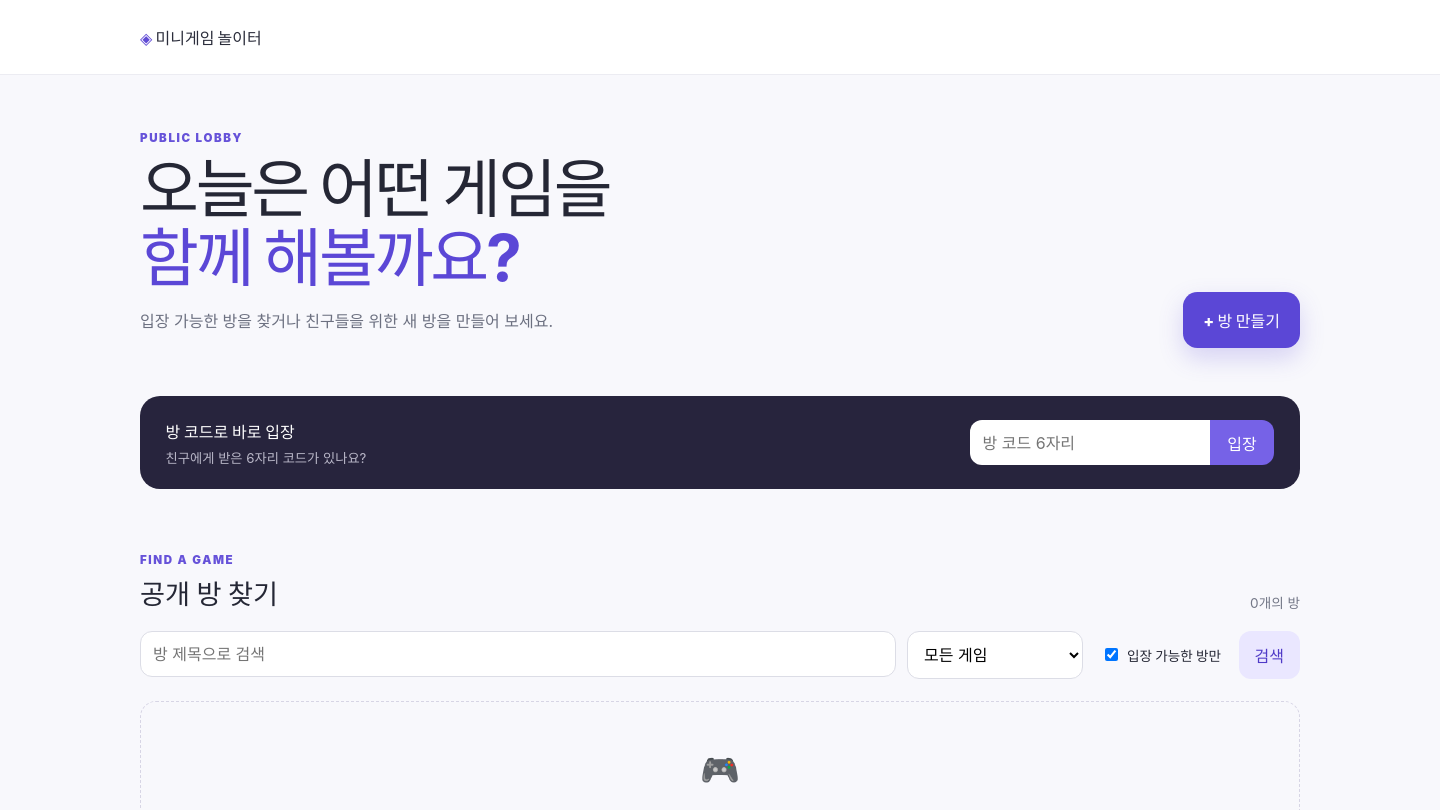
Test case: LobbyView › clears a cancelled plaintext room password before the dialog reopens
Step 1. Click the button "+ 방 만들기" → click(1242, 320), box x1=1183 y1=292 x2=1300 y2=348
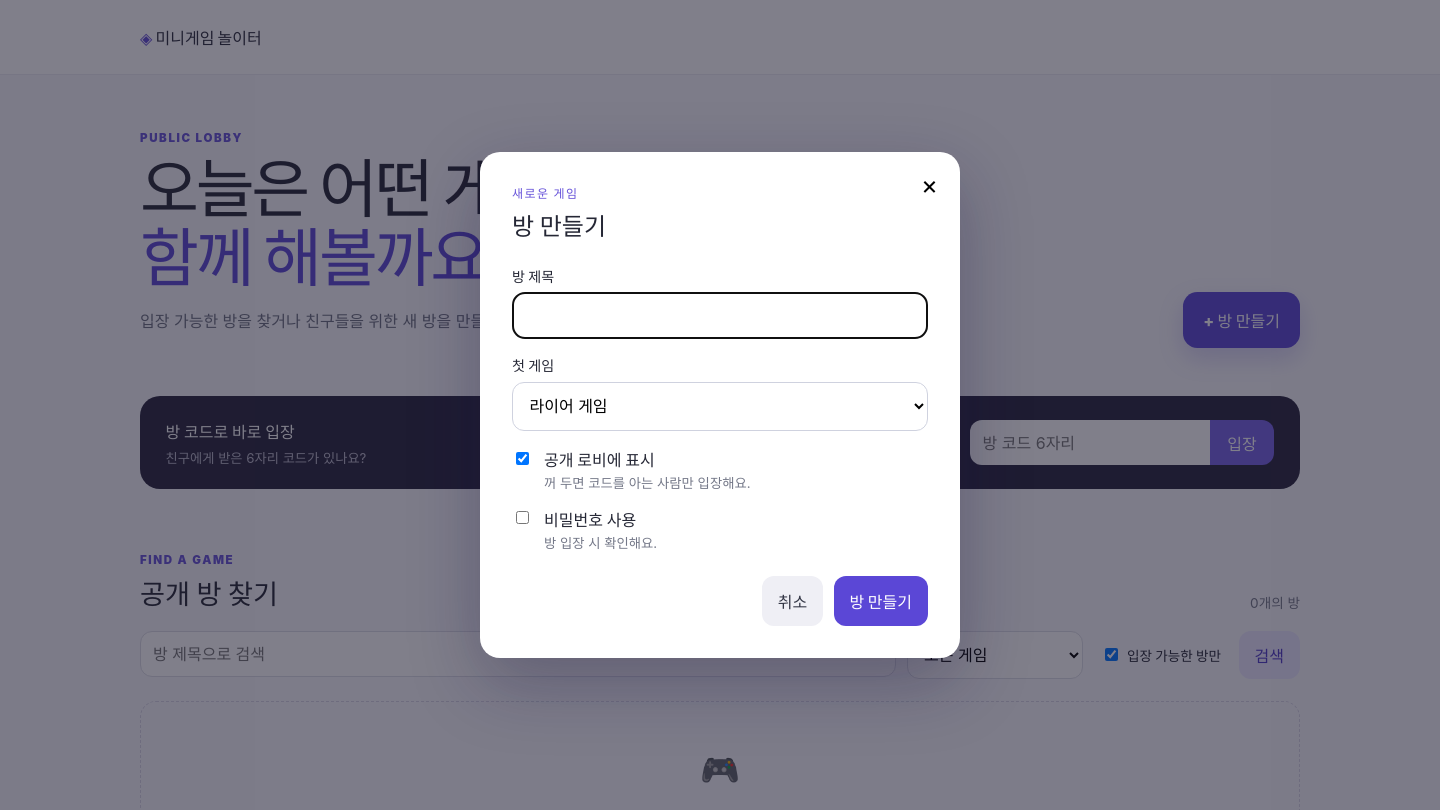
Step 2. Click the checkbox with id "room-password-enabled" → click(522, 518), box x1=516 y1=511 x2=529 y2=524
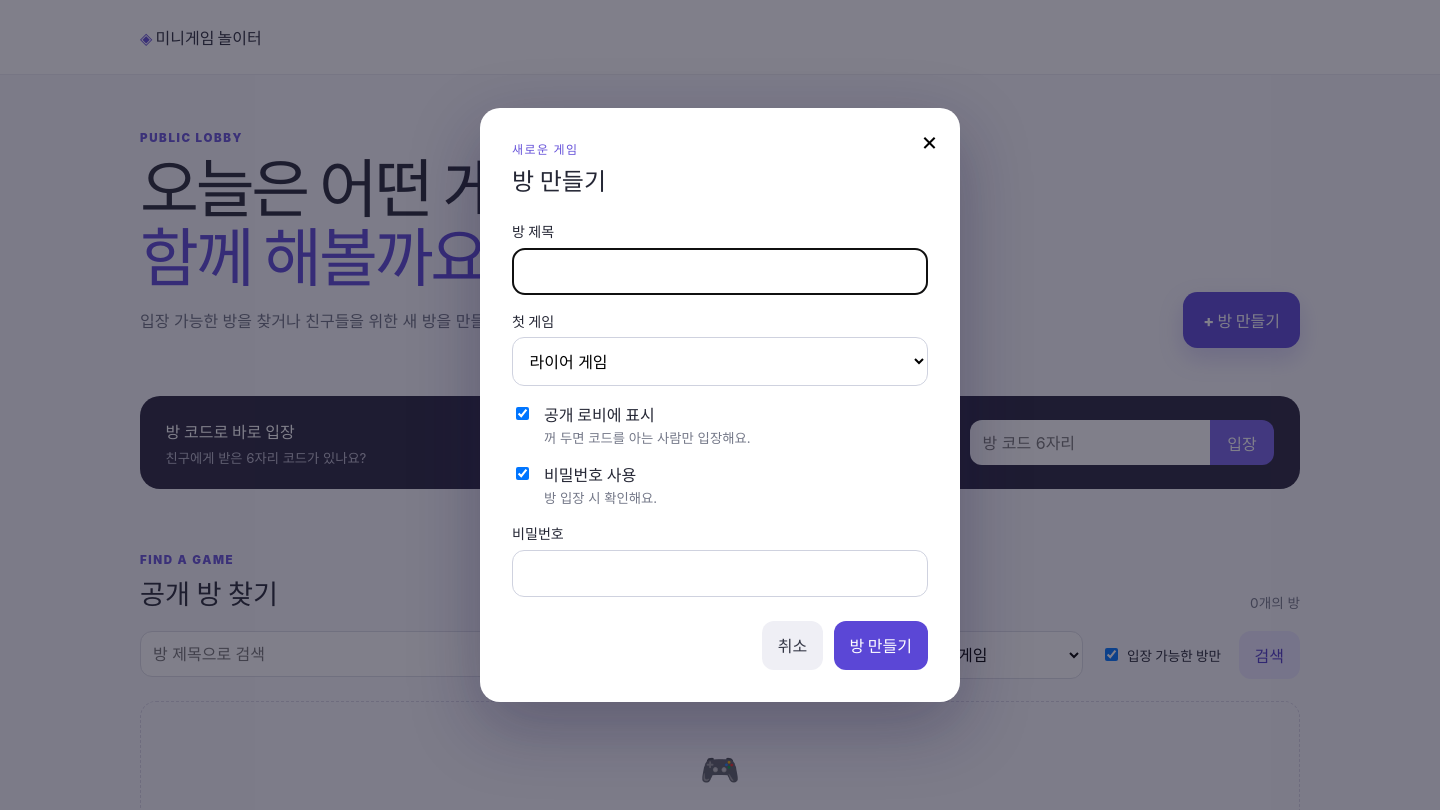
Step 3. Type "취소할비밀번호" into the password field with id "room-password" → (720, 573), box x1=512 y1=550 x2=928 y2=596
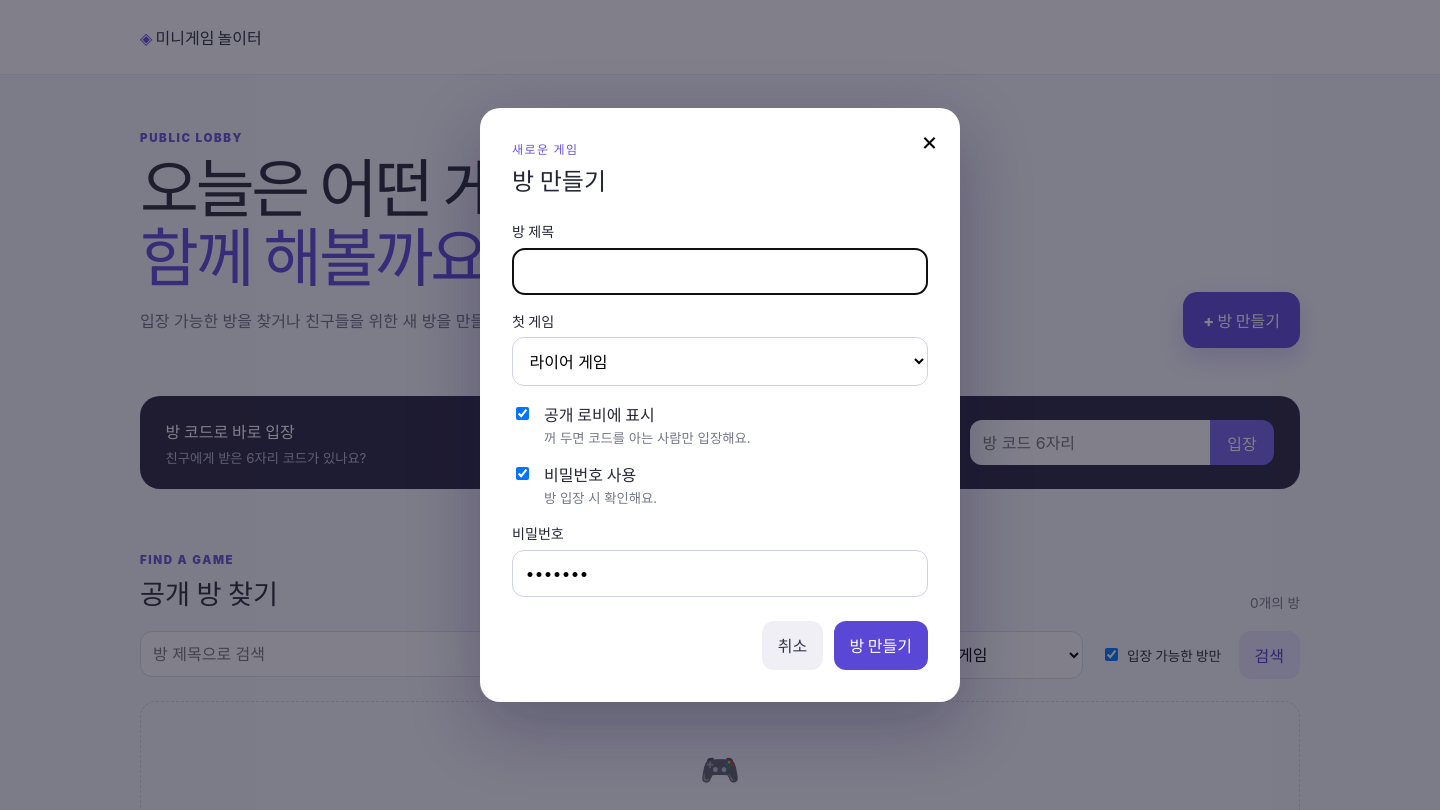
Step 4. Click the button with class "secondary" → click(793, 645), box x1=762 y1=621 x2=823 y2=670
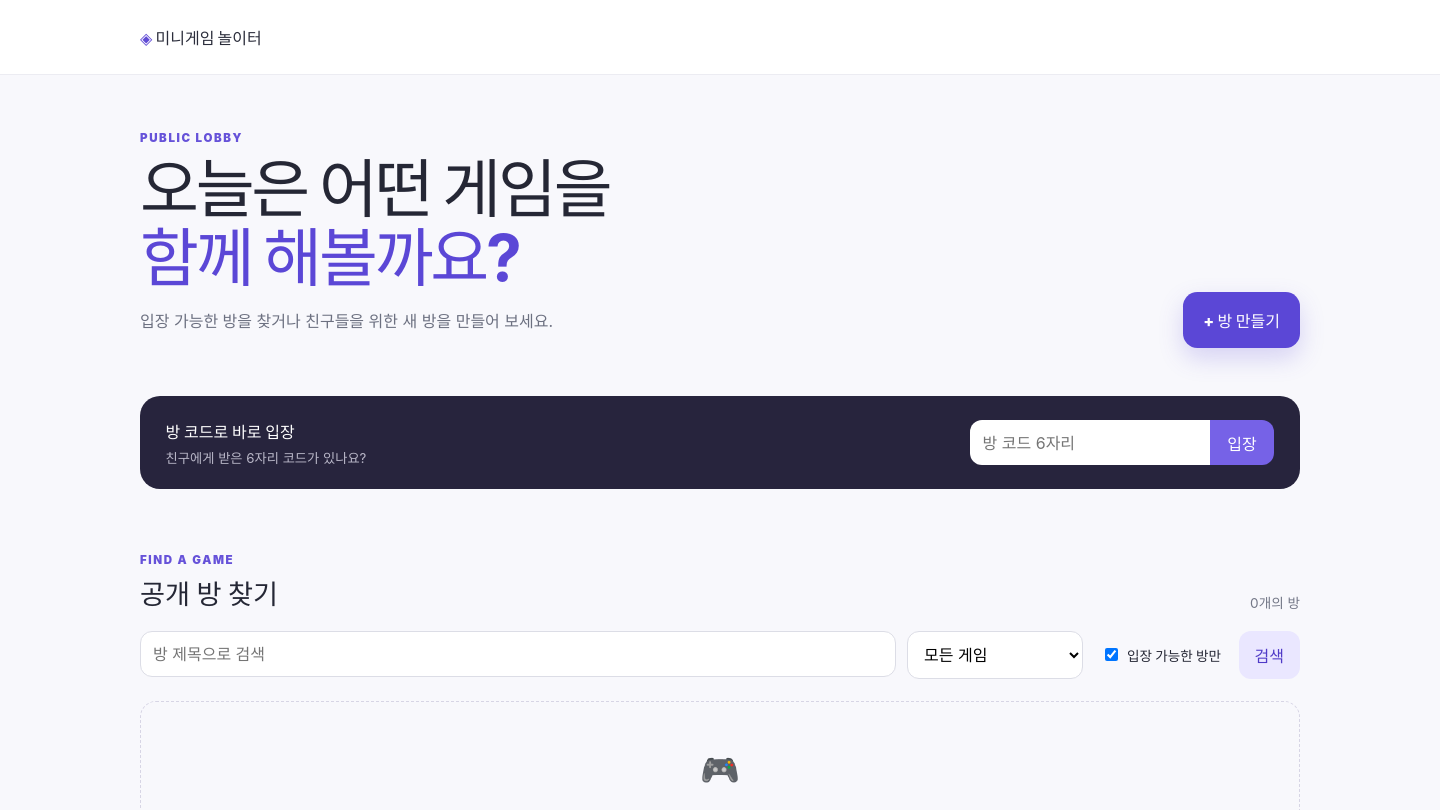
Step 5. Click the button "+ 방 만들기" → click(1242, 320), box x1=1183 y1=292 x2=1300 y2=348
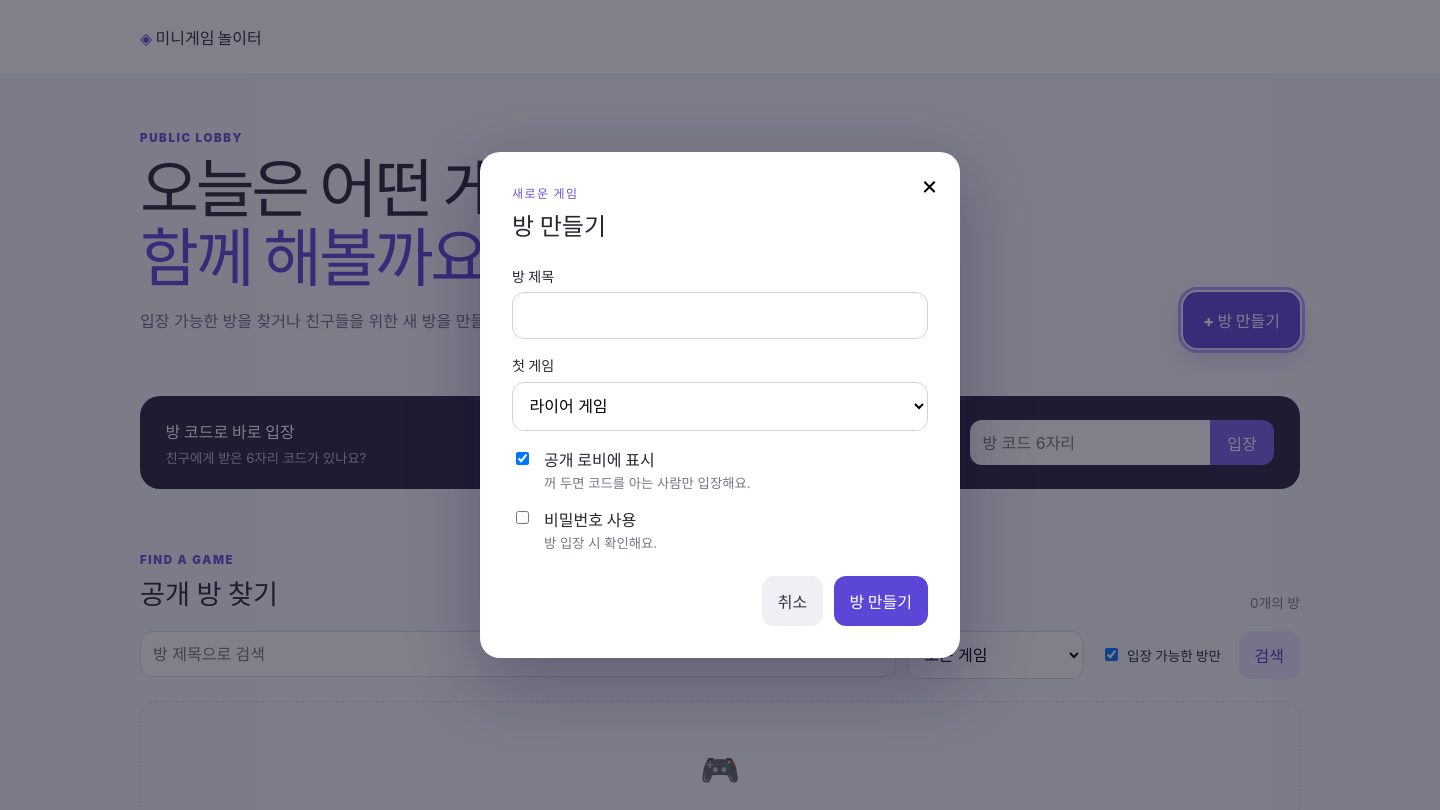
Result: the checkbox with id "room-password-enabled" is not checked at x1=516 y1=511 x2=529 y2=524
